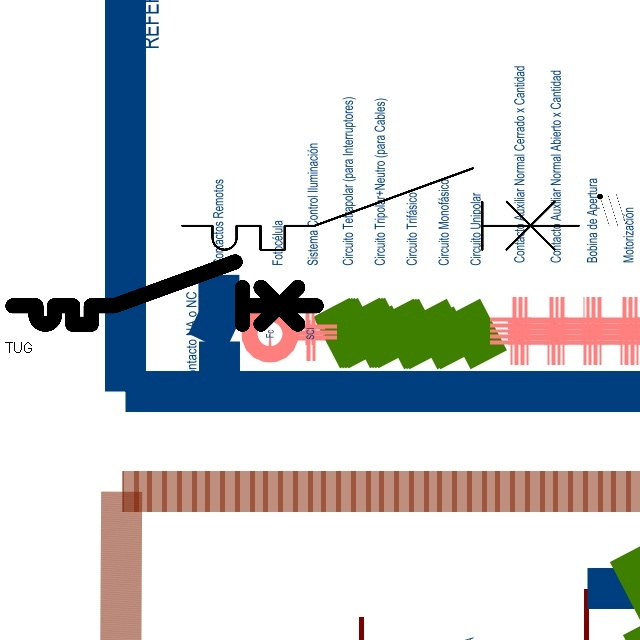interruptor_termomagnetico: (172, 158, 588, 260), (5, 254, 324, 332)
